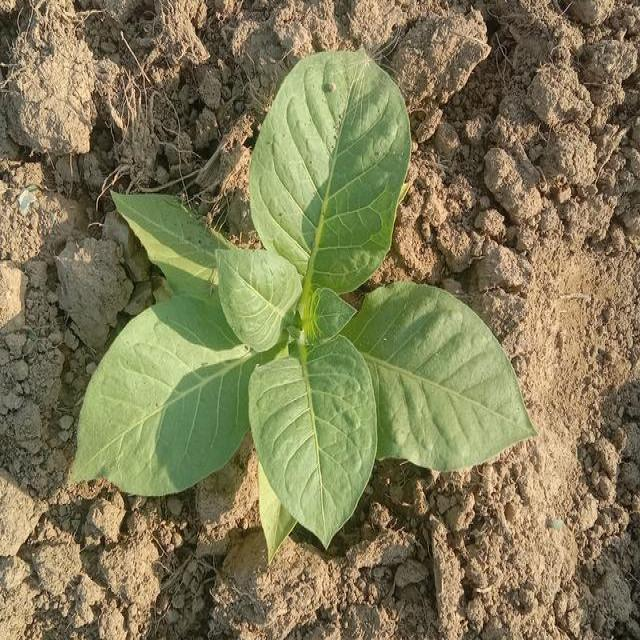crop: (83, 67, 515, 538)
